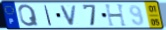7: (82, 4, 98, 27)
9: (129, 4, 145, 27)
H: (104, 3, 129, 28)
I: (43, 4, 53, 27)
Q: (17, 3, 40, 27)
V: (59, 4, 79, 26)
